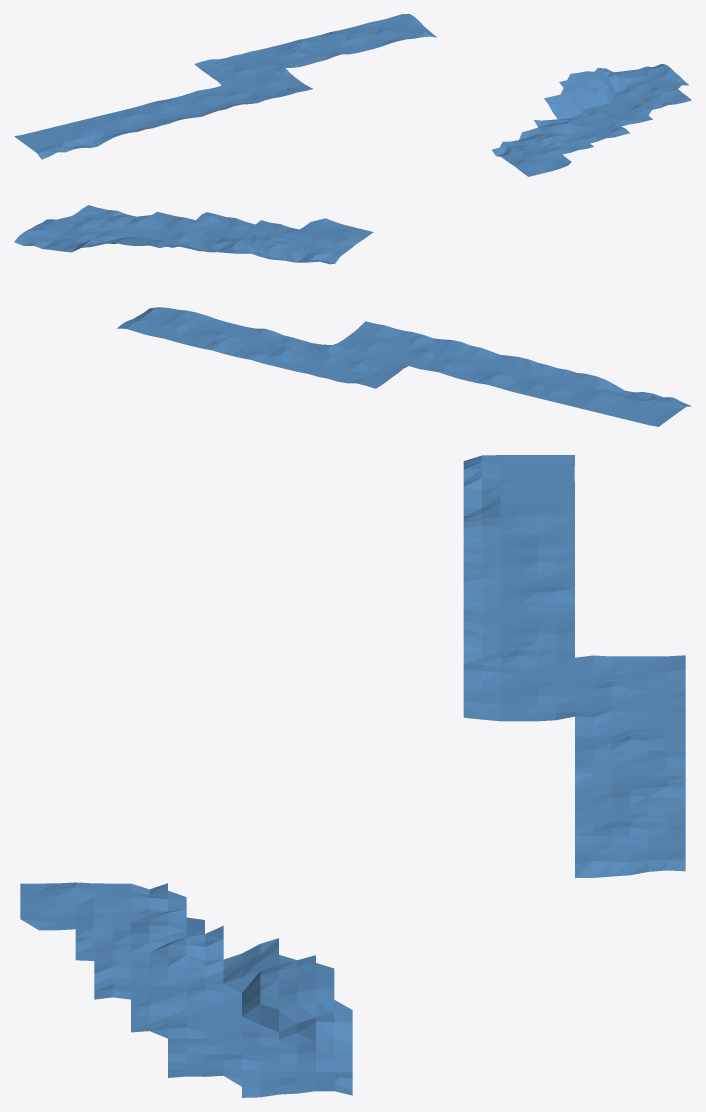
Rendered from Map2_강과바다_바다큐브.fbx.
The picture shows the model from 3 angles, top to bottom: view 1: azimuth 30°, elevation 25°; view 2: azimuth 150°, elevation 25°; view 3: azimuth 270°, elevation 25°; orthographic projection. The views are drawn at different scales.
Parts seen in each view (by area): view 1: 1_강과바다_Sea_큐브.006, 1_강과바다_Sea_큐브.005, 1_강과바다_Sea_큐브.002, 1_강과바다_Sea_큐브.001, 1_강과바다_Sea_큐브, 1_강과바다_Sea_큐브.004, 1_강과바다_Sea_큐브.007, 1_강과바다_Sea_큐브.003; view 2: 1_강과바다_Sea_큐브.006, 1_강과바다_Sea_큐브.002, 1_강과바다_Sea_큐브.001, 1_강과바다_Sea_큐브, 1_강과바다_Sea_큐브.004, 1_강과바다_Sea_큐브.007, 1_강과바다_Sea_큐브.005, 1_강과바다_Sea_큐브.003; view 3: 1_강과바다_Sea_큐브.006, 1_강과바다_Sea_큐브.005, 1_강과바다_Sea_큐브.002, 1_강과바다_Sea_큐브.001, 1_강과바다_Sea_큐브, 1_강과바다_Sea_큐브.004, 1_강과바다_Sea_큐브.007, 1_강과바다_Sea_큐브.003.
Part boxes in pixels (box(x1,y1,x2,y2)): 1_강과바다_Sea_큐브.006: box(534, 85, 691, 152); 1_강과바다_Sea_큐브.005: box(544, 64, 688, 112); 1_강과바다_Sea_큐브.002: box(194, 50, 312, 103); 1_강과바다_Sea_큐브.001: box(110, 85, 248, 131); 1_강과바다_Sea_큐브: box(14, 113, 136, 159); 1_강과바다_Sea_큐브.004: box(322, 14, 437, 54); 1_강과바다_Sea_큐브.007: box(492, 127, 571, 176); 1_강과바다_Sea_큐브.003: box(258, 34, 349, 67); 1_강과바다_Sea_큐브.006: box(57, 205, 289, 253); 1_강과바다_Sea_큐브.002: box(299, 321, 441, 388); 1_강과바다_Sea_큐브.001: box(409, 339, 576, 399); 1_강과바다_Sea_큐브: box(544, 373, 691, 426); 1_강과바다_Sea_큐브.004: box(117, 307, 254, 353); 1_강과바다_Sea_큐브.007: box(251, 218, 373, 264); 1_강과바다_Sea_큐브.005: box(14, 219, 209, 252); 1_강과바다_Sea_큐브.003: box(222, 328, 331, 371); 1_강과바다_Sea_큐브.006: box(75, 926, 241, 1086); 1_강과바다_Sea_큐브.005: box(242, 938, 352, 1097); 1_강과바다_Sea_큐브.002: box(463, 654, 685, 721); 1_강과바다_Sea_큐브.001: box(463, 546, 574, 658); 1_강과바다_Sea_큐브: box(463, 455, 574, 549); 1_강과바다_Sea_큐브.004: box(575, 782, 685, 877); 1_강과바다_Sea_큐브.007: box(20, 882, 204, 937); 1_강과바다_Sea_큐브.003: box(575, 716, 685, 783).
Size of the model in its own units: 11261 by 23153 by 1396.
